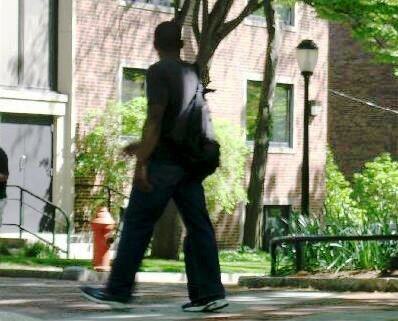person: (85, 13, 237, 309)
